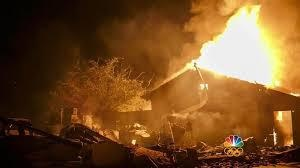fire: (189, 6, 282, 87)
